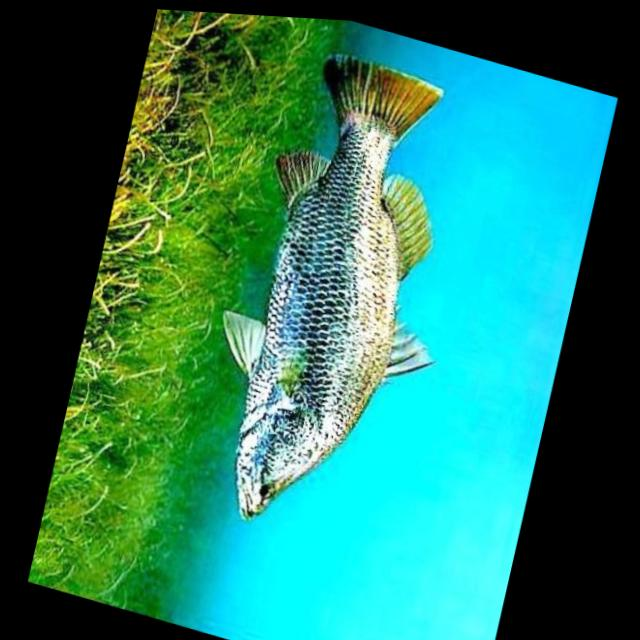Seabass: (178, 29, 502, 566)
